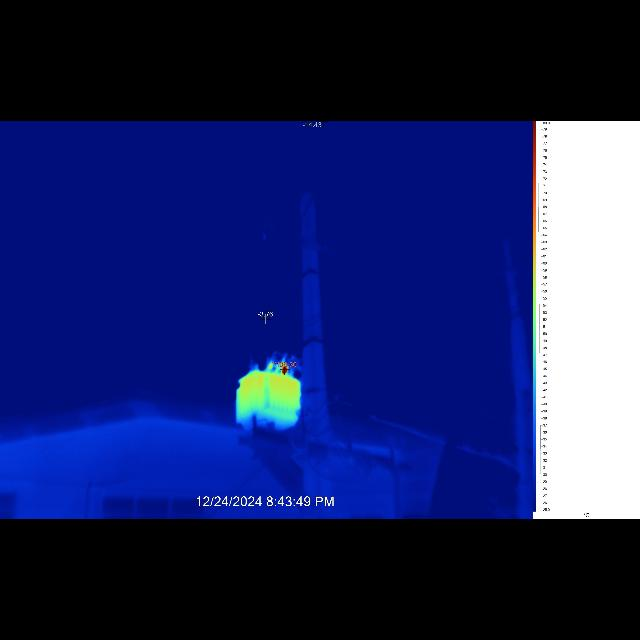loose_joint_red: (268, 362, 273, 373), (281, 367, 287, 376)
